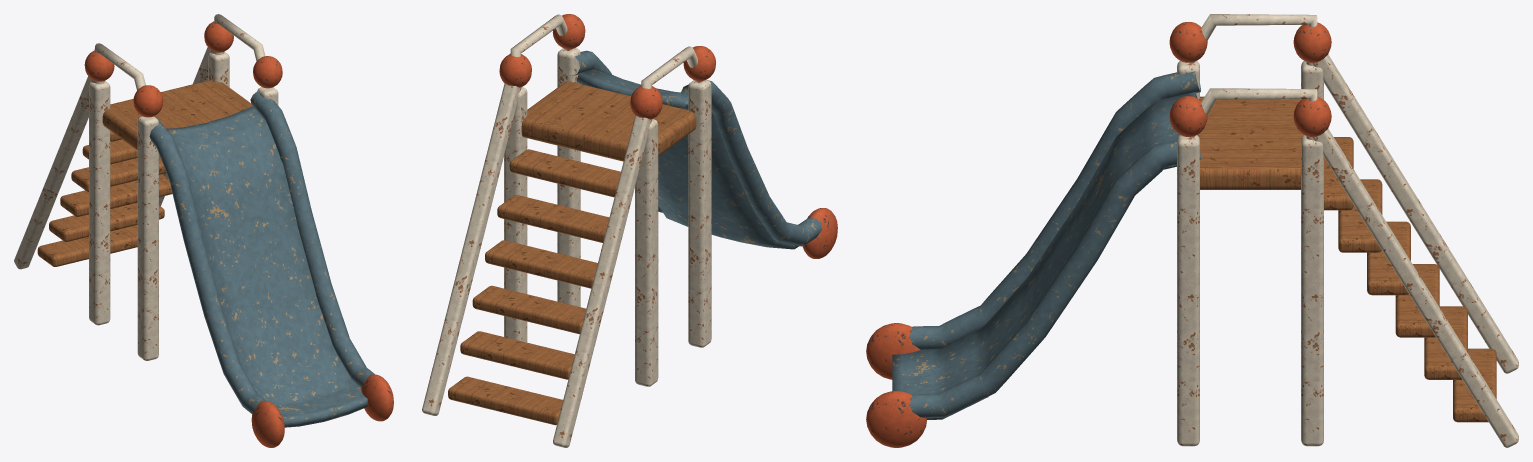
File: C5_滑梯_分享包版.glb
3 renders of one model, left to right at view 1: azimuth 30°, elevation 25°; view 2: azimuth 150°, elevation 25°; view 3: azimuth 270°, elevation 25°, orthographic. The views are drawn at different scales.
Visible parts, largest first — view 1: Smooth blue chute, Raised blue slide safety edge, Raised blue slide safety edge.001, Front ivory support, Rear ivory support, Top landing, Outside approach rail, Repositioned approach tread, Repositioned approach tread.001, Repositioned approach tread.002, Coral exit protector, Coral exit protector.001 (+10 smaller); view 2: Smooth blue chute, Top landing, Front ivory support, Outside approach rail, Outside approach rail.001, Rear ivory support, Raised blue slide safety edge, Rear ivory support.001, Repositioned approach tread, Repositioned approach tread.001, Repositioned approach tread.002, Repositioned approach tread.003 (+11 smaller); view 3: Smooth blue chute, Raised blue slide safety edge.001, Top landing, Raised blue slide safety edge, Front ivory support.001, Rear ivory support.001, Outside approach rail.001, Outside approach rail, Coral exit protector.001, Repositioned approach tread.004, Repositioned approach tread.002, Repositioned approach tread.003 (+10 smaller).
Part boxes in pixels (x1,y1,x2,y2): Smooth blue chute: (166,106,367,427); Raised blue slide safety edge: (149,117,265,413); Raised blue slide safety edge.001: (250,91,374,387); Front ivory support: (137,116,158,360); Rear ivory support: (89,81,110,325); Top landing: (102,80,252,150); Outside approach rail: (14,76,94,269); Repositioned approach tread: (37,225,137,266); Repositioned approach tread.001: (49,202,164,241); Repositioned approach tread.002: (60,174,172,216); Coral exit protector: (251,401,284,447); Coral exit protector.001: (361,374,393,421); Smooth blue chute: (576,69,798,249); Top landing: (521,81,696,161); Front ivory support: (688,80,711,347); Outside approach rail: (553,115,651,447); Outside approach rail.001: (422,83,521,415); Rear ivory support: (635,119,658,386); Raised blue slide safety edge: (681,80,822,246); Rear ivory support.001: (504,87,527,342); Repositioned approach tread: (448,376,562,425); Repositioned approach tread.001: (460,331,574,379); Repositioned approach tread.002: (472,285,586,334); Repositioned approach tread.003: (485,240,597,288); Smooth blue chute: (892,92,1197,419); Raised blue slide safety edge.001: (909,140,1200,418); Top landing: (1197,96,1303,189); Raised blue slide safety edge: (909,71,1200,349); Front ivory support.001: (1177,135,1199,446); Rear ivory support.001: (1301,135,1323,446); Outside approach rail.001: (1312,128,1518,447); Outside approach rail: (1312,54,1518,373); Coral exit protector.001: (866,390,926,447); Repositioned approach tread.004: (1338,179,1382,252); Repositioned approach tread.002: (1395,264,1439,337); Repositioned approach tread.003: (1367,221,1410,295).
Bounding box in the file's own units: 1.12 × 2.09 × 3.42.
4 materials, 4 textured.
